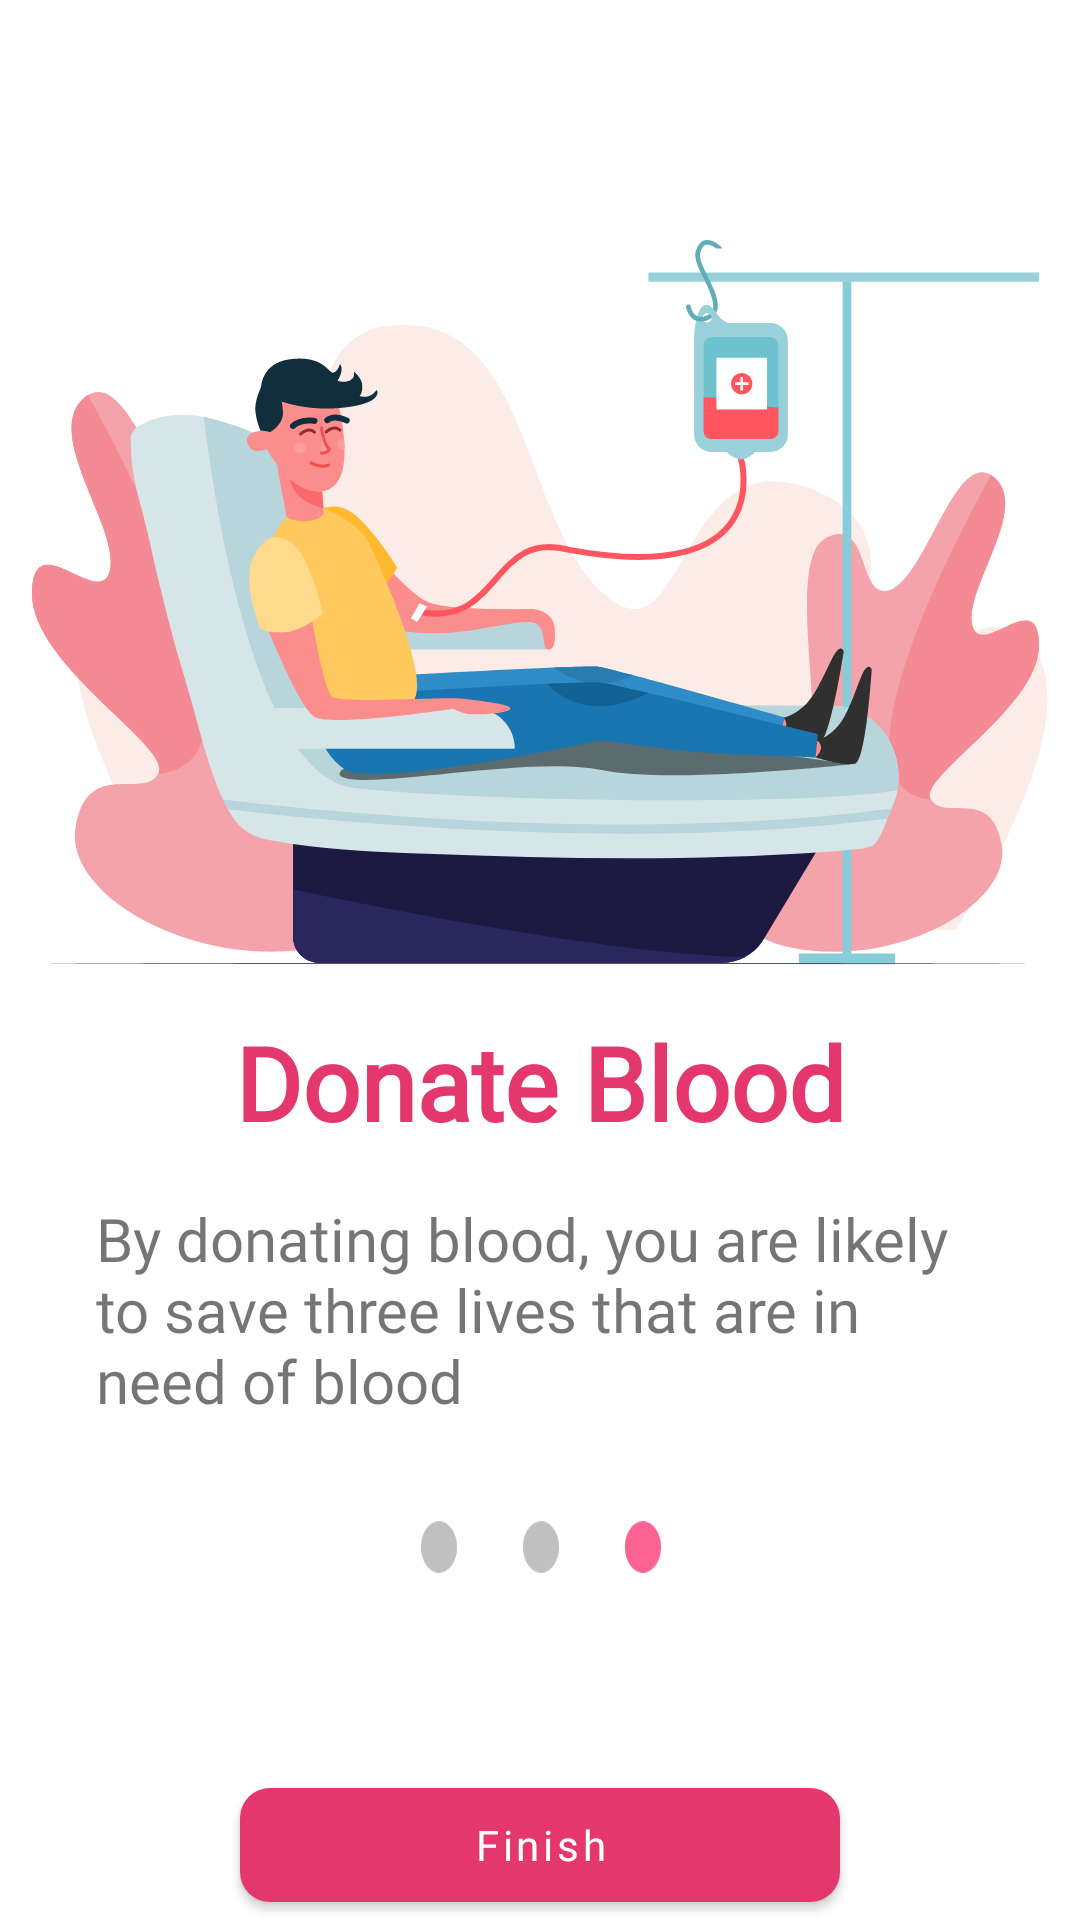

Point at icon controls on the screen. Image size 1080×1920, points as (x=x, y=y).
dots: (x=541, y=1547)
